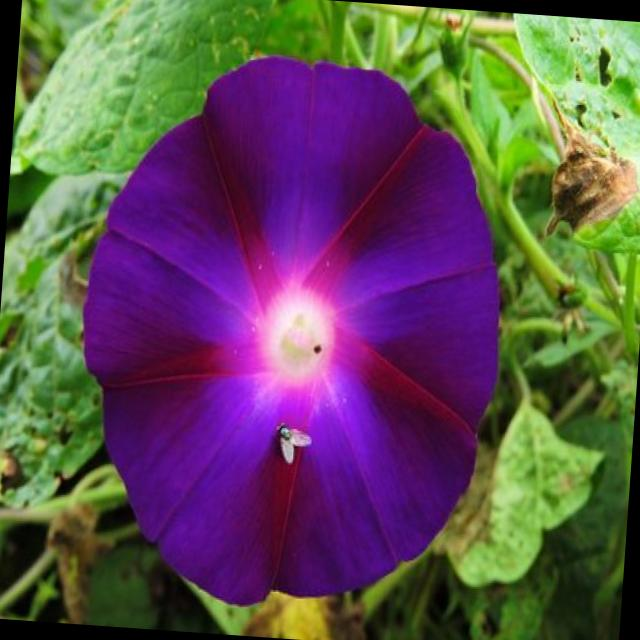ipomoea: (58, 39, 524, 626)
